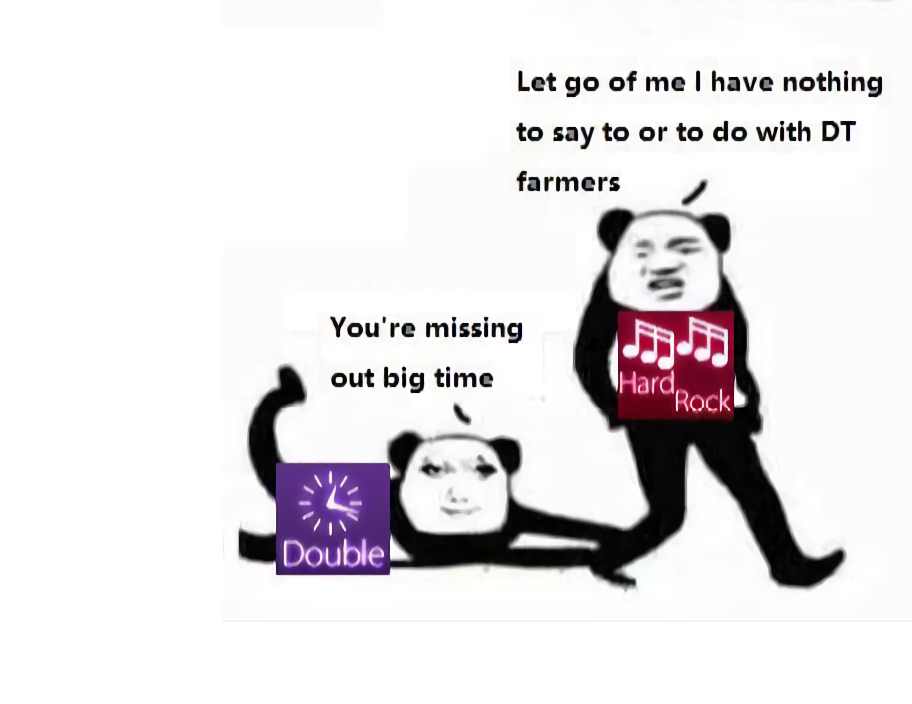dragon: (422, 454, 500, 526)
